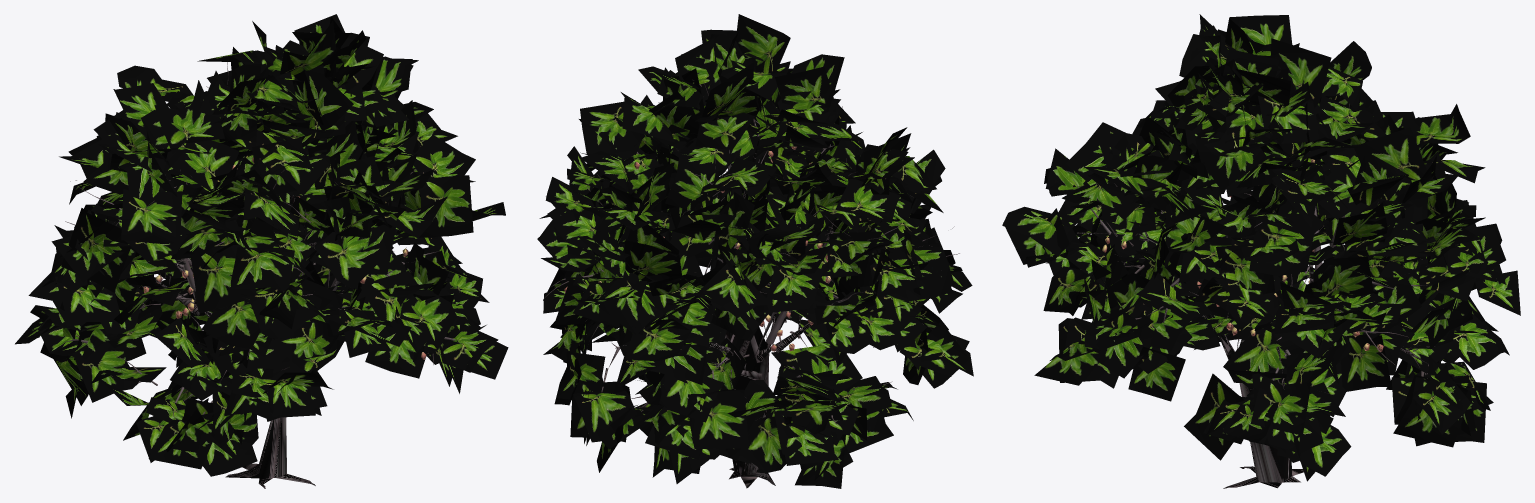
The model's file is mango_tree.lod3.glb.
3 views of the same model, side by side, from view 1: azimuth 30°, elevation 25°; view 2: azimuth 150°, elevation 25°; view 3: azimuth 270°, elevation 25° (orthographic). The views are drawn at different scales.
Parts seen in each view (by area): view 1: leaves_Material.001_0, tree_Material.002_0; view 2: leaves_Material.001_0, tree_Material.002_0, tree_Material.004_0; view 3: leaves_Material.001_0, tree_Material.002_0.
Part boxes in pixels (x1,y1,x2,y2): leaves_Material.001_0: [15, 14, 508, 476]; tree_Material.002_0: [64, 60, 455, 488]; leaves_Material.001_0: [537, 14, 973, 488]; tree_Material.002_0: [543, 80, 959, 488]; tree_Material.004_0: [564, 118, 837, 351]; leaves_Material.001_0: [1002, 14, 1520, 481]; tree_Material.002_0: [1069, 101, 1458, 488].
Size of the model in its own units: 6.61 by 7.07 by 7.19.
Materials: 3 (3 with a texture image).
